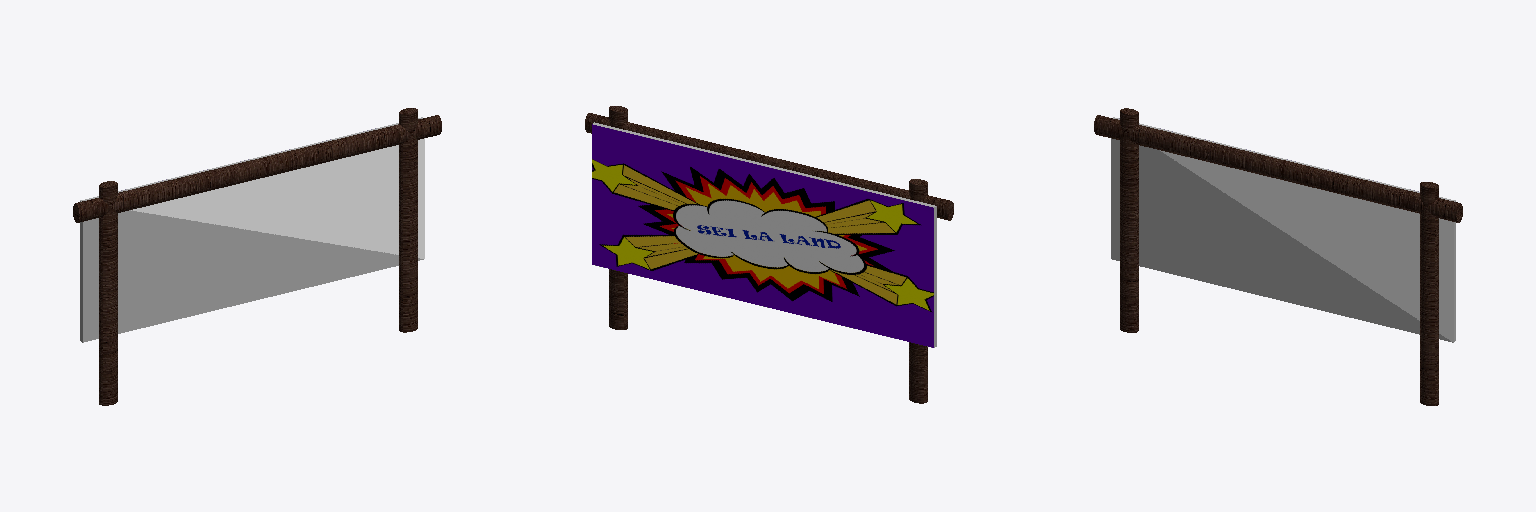
3 views of the same model, side by side, from view 1: azimuth 30°, elevation 25°; view 2: azimuth 150°, elevation 25°; view 3: azimuth 330°, elevation 25° (orthographic).
Visible parts, largest first — view 1: placa_pCube2; view 2: placa_pCube2; view 3: placa_pCube2.
Part boxes in pixels (left/top/right/bottom): placa_pCube2: left=73, top=108, right=441, bottom=405; placa_pCube2: left=585, top=106, right=953, bottom=403; placa_pCube2: left=1094, top=108, right=1462, bottom=405.
Size of the model in its own units: 2.37 by 1.36 by 0.1101.
1 materials, 1 textured.